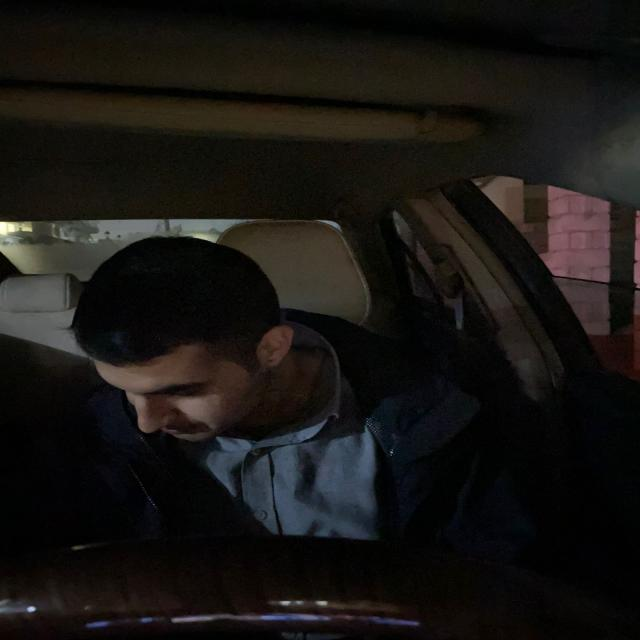drowsy: (64, 228, 304, 459)
